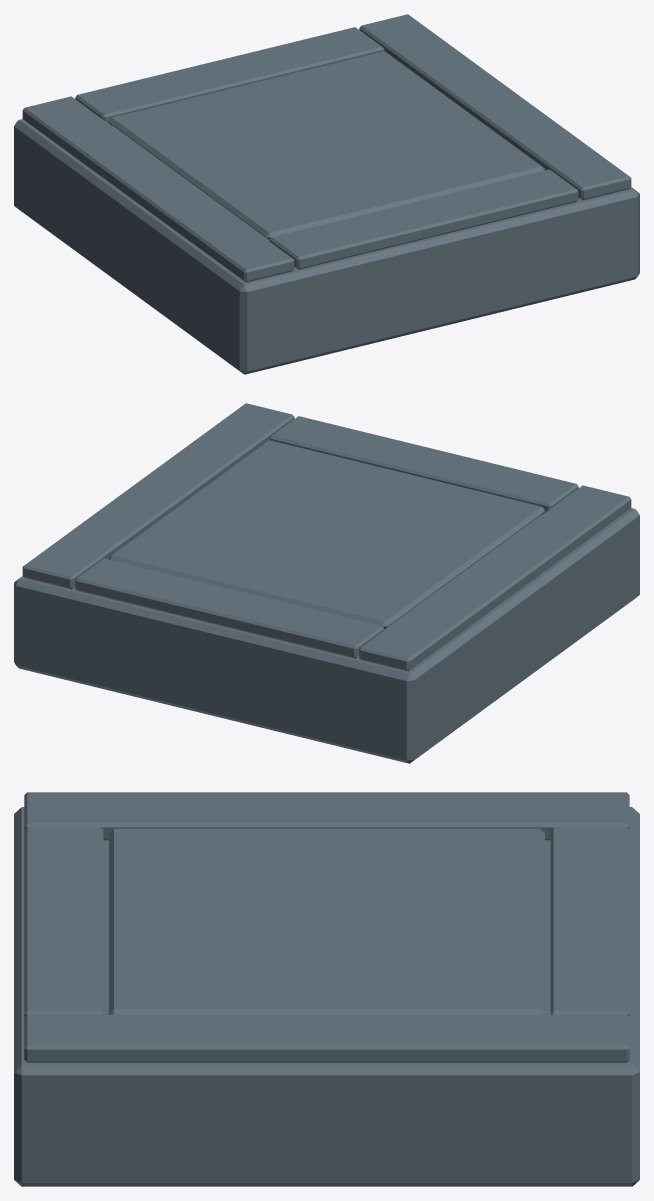
File: FloorService.fbx
3 renders of one model, top to bottom at view 1: azimuth 30°, elevation 25°; view 2: azimuth 150°, elevation 25°; view 3: azimuth 270°, elevation 25°, orthographic. The views are drawn at different scales.
Parts seen in each view (by area): view 1: Deck; view 2: Deck; view 3: Deck.
Boxes of the visible parts, x1=… form: Deck: x1=14, y1=14, x2=639, y2=374; Deck: x1=14, y1=403, x2=639, y2=763; Deck: x1=14, y1=792, x2=639, y2=1186.
Size of the model in its own units: 0.98 by 0.24 by 0.98.
